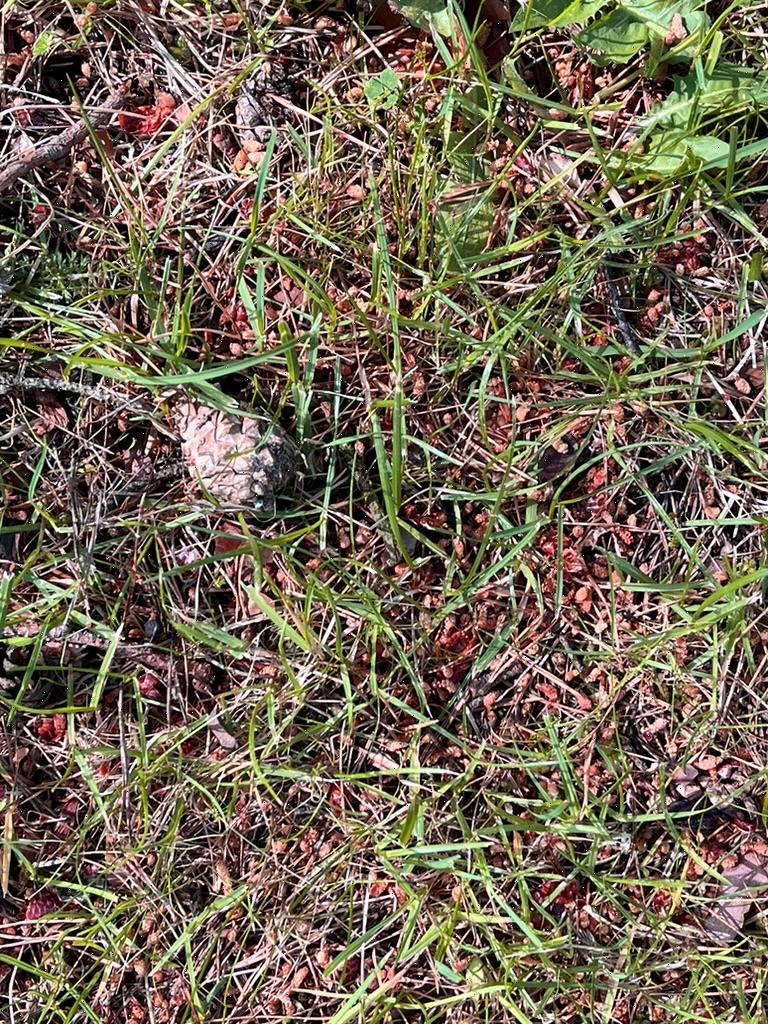pine: (151, 370, 316, 540)
